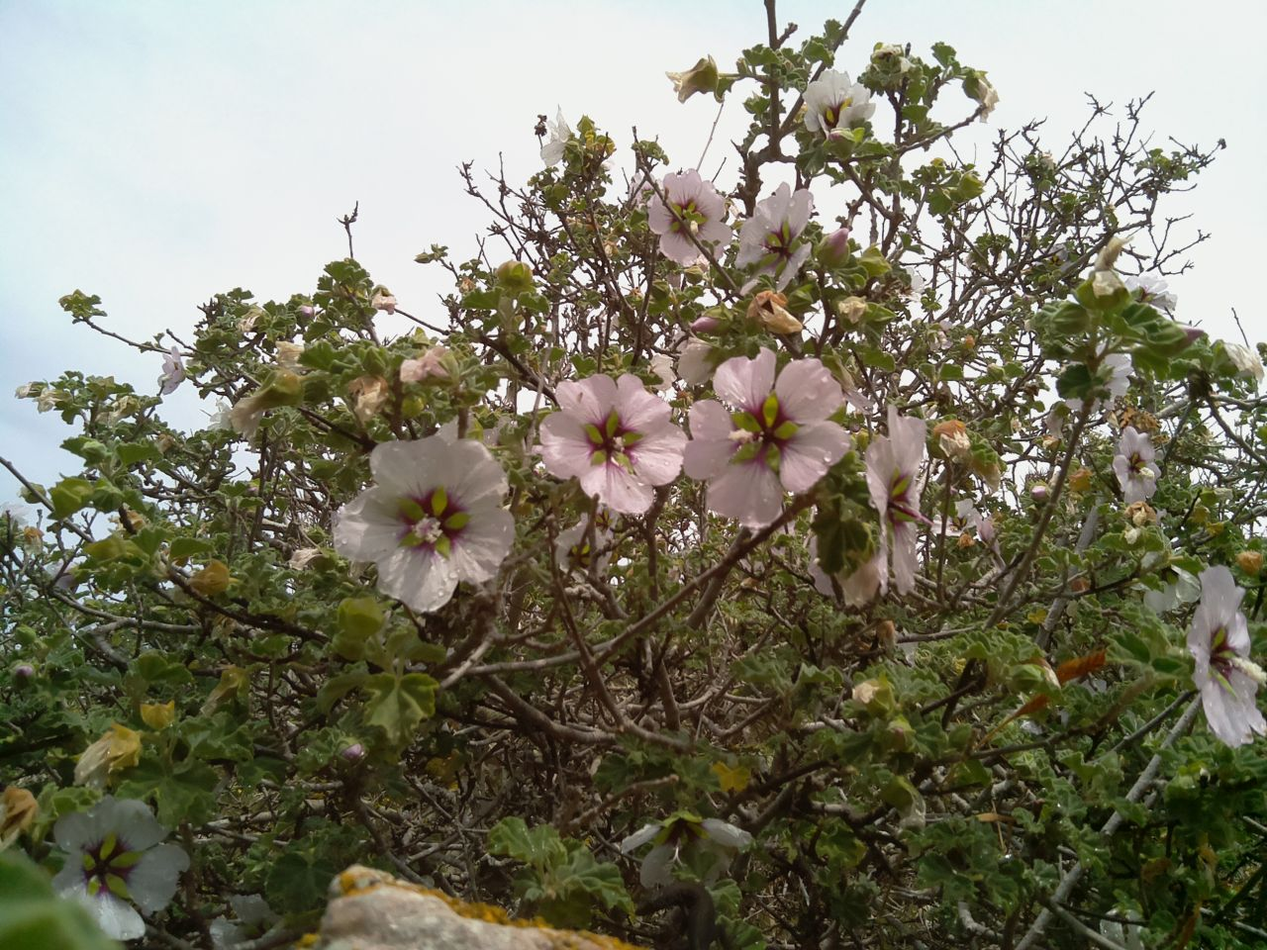Vanessa cardui: (1105, 393, 1174, 453)
